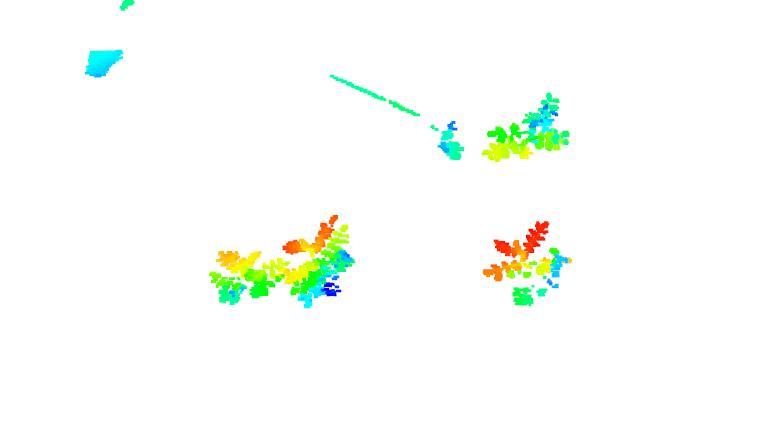chickpea: (489, 217, 567, 313), (281, 213, 358, 305), (485, 90, 578, 164), (212, 246, 292, 303), (431, 116, 469, 164)
